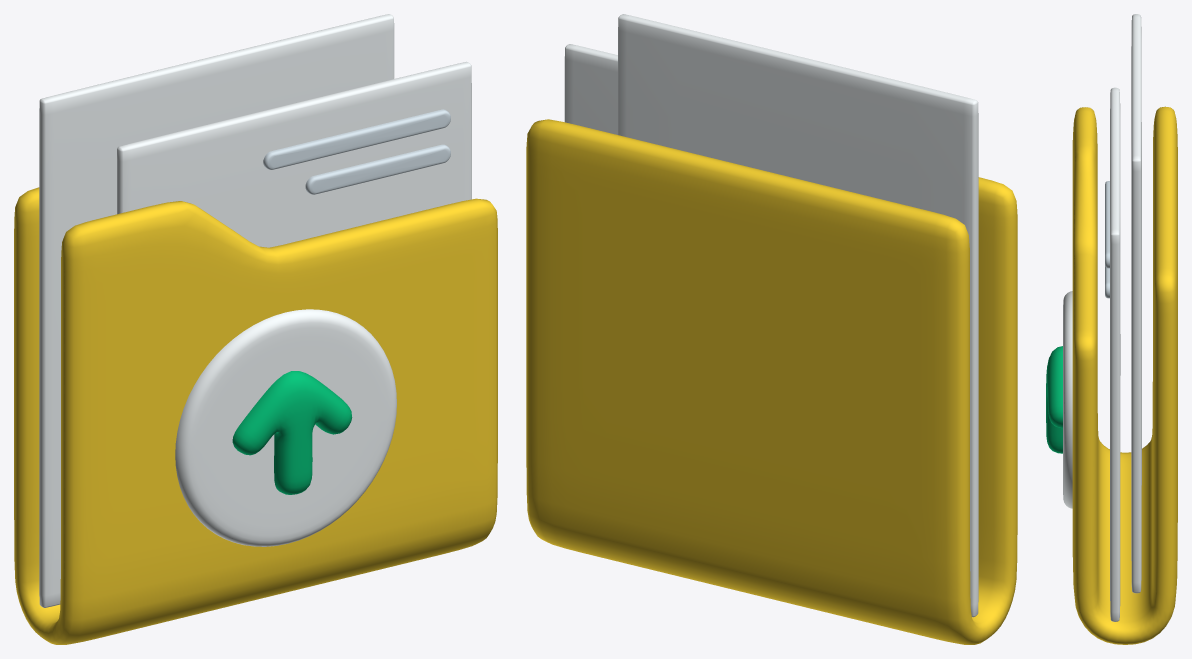
File: folder3.glb
3 renders of one model, left to right at view 1: azimuth 30°, elevation 25°; view 2: azimuth 150°, elevation 25°; view 3: azimuth 270°, elevation 25°, orthographic. The views are drawn at different scales.
Visible parts, largest first — view 1: Plane.087, Plane.085, Plane.086, Cylinder.091, Vert.009, Cylinder.090, Cylinder.089; view 2: Plane.087, Plane.085, Plane.086; view 3: Plane.087, Plane.085, Plane.086, Cylinder.091, Vert.009, Cylinder.090.
Boxes of the visible parts, x1,y1,x2,y2 form: Plane.087: [14, 187, 497, 644]; Plane.085: [39, 14, 394, 607]; Plane.086: [117, 61, 471, 247]; Cylinder.091: [175, 309, 396, 546]; Vert.009: [232, 371, 352, 494]; Cylinder.090: [263, 109, 450, 169]; Cylinder.089: [305, 144, 450, 194]; Plane.087: [526, 119, 1017, 644]; Plane.085: [618, 14, 978, 617]; Plane.086: [564, 44, 617, 134]; Plane.087: [1072, 106, 1177, 644]; Plane.085: [1131, 14, 1141, 593]; Plane.086: [1110, 87, 1120, 621]; Cylinder.091: [1063, 291, 1072, 508]; Vert.009: [1046, 346, 1062, 453]; Cylinder.090: [1105, 181, 1109, 268].
Size of the model in its own units: 3.99 by 4.74 by 1.23.
